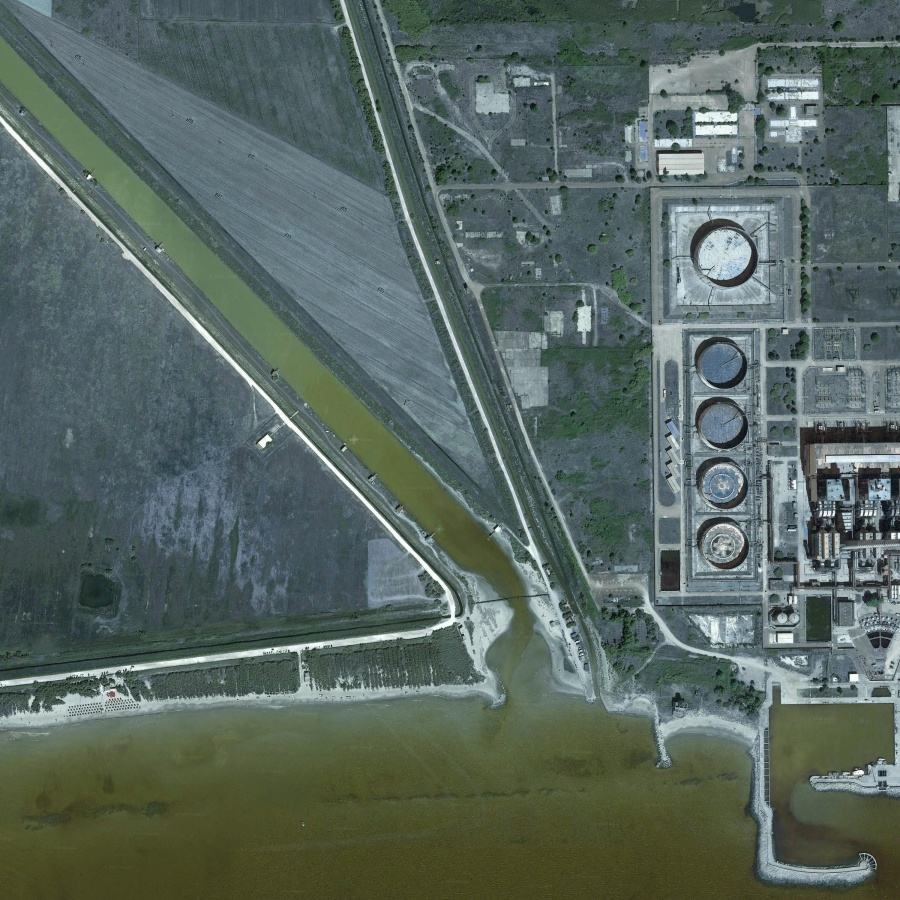PowerPlant: (647, 188, 796, 603)
